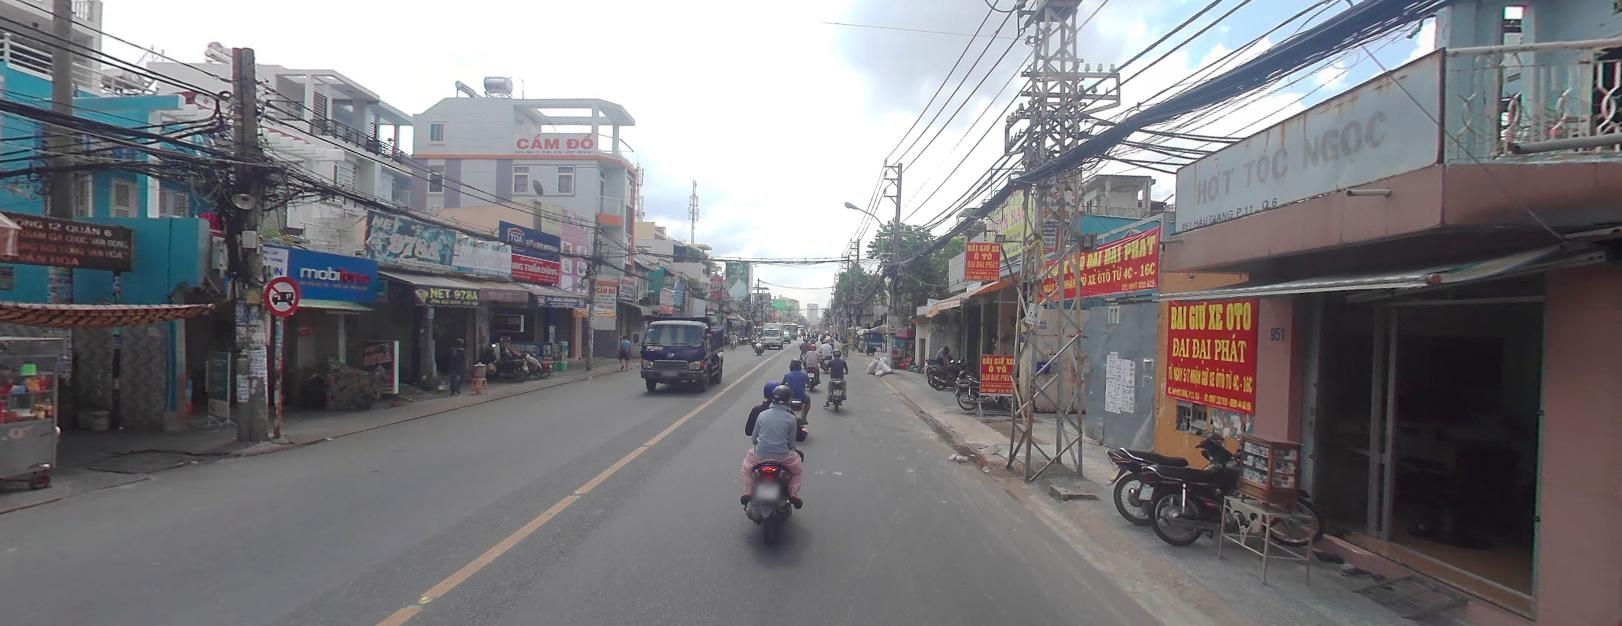Cam con lai: (264, 274, 298, 314)
